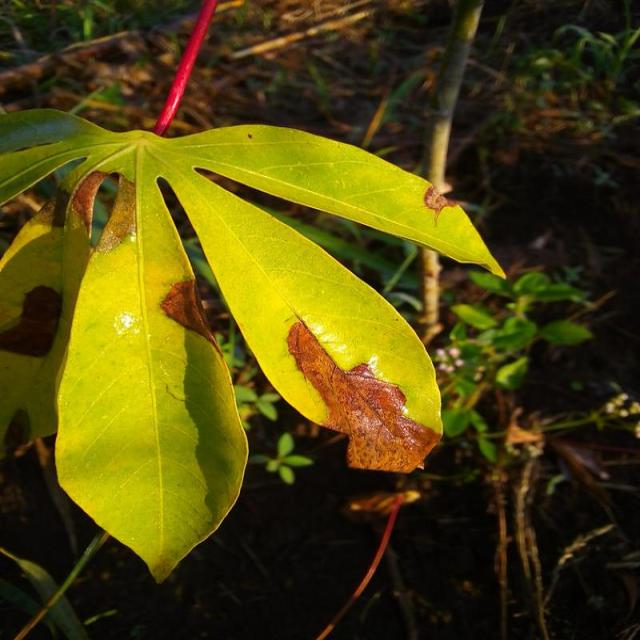cassava leaf: (2, 4, 507, 584), (159, 148, 445, 475), (54, 154, 250, 584)
